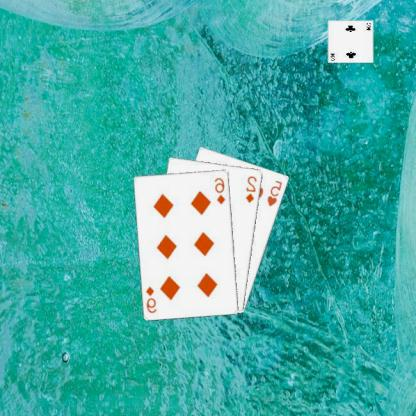2D: (245, 173, 260, 204)
5H: (266, 178, 286, 208)
6D: (145, 284, 160, 314), (214, 175, 228, 205)
